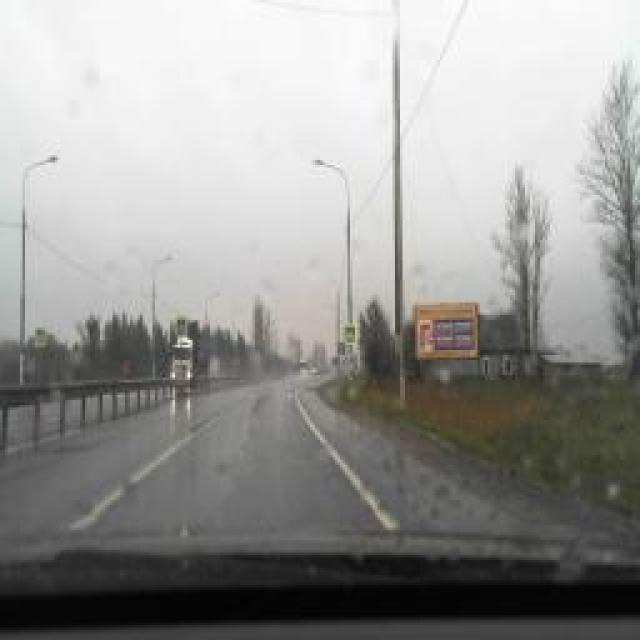sign: (175, 316, 187, 336), (344, 324, 356, 344)
